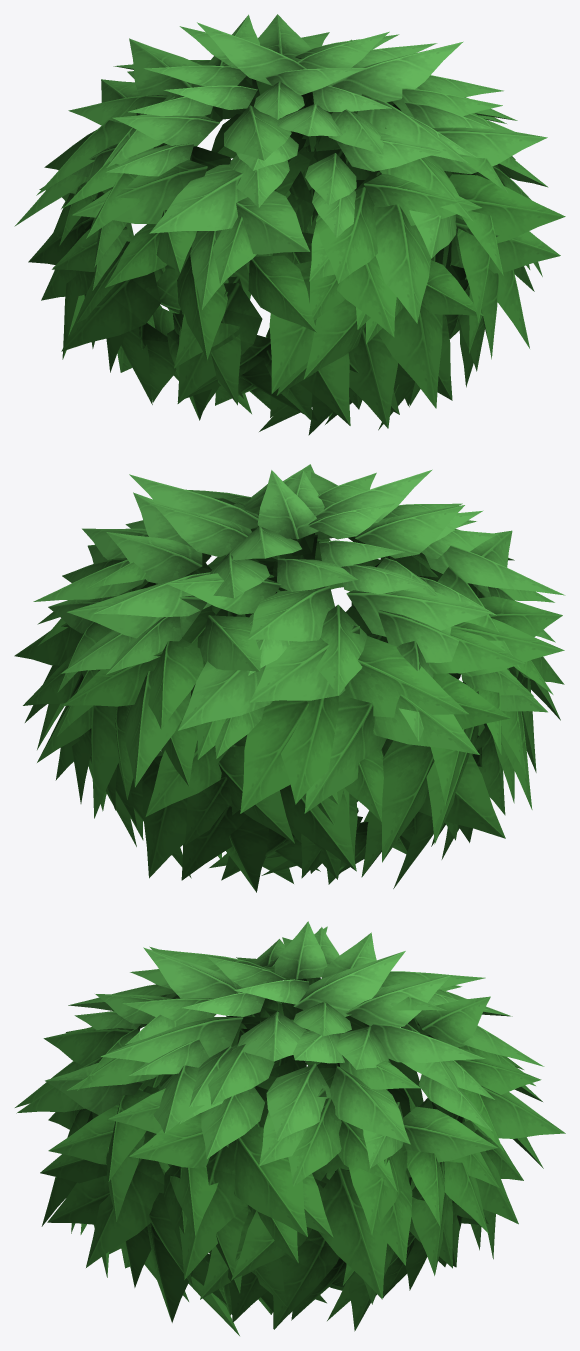
3 renders of one model, top to bottom at view 1: azimuth 30°, elevation 25°; view 2: azimuth 150°, elevation 25°; view 3: azimuth 270°, elevation 25°, orthographic. The views are drawn at different scales.
Visible parts, largest first — view 1: grid_3_leaves_LOD0; view 2: grid_3_leaves_LOD0; view 3: grid_3_leaves_LOD0.
Part boxes in pixels (x1,y1,x2,y2): grid_3_leaves_LOD0: [14, 14, 565, 435]; grid_3_leaves_LOD0: [14, 464, 565, 892]; grid_3_leaves_LOD0: [15, 921, 565, 1335].
Size of what is drawn, in the model's own units: 1.35 by 0.9275 by 1.43.
1 material, 1 textured.
